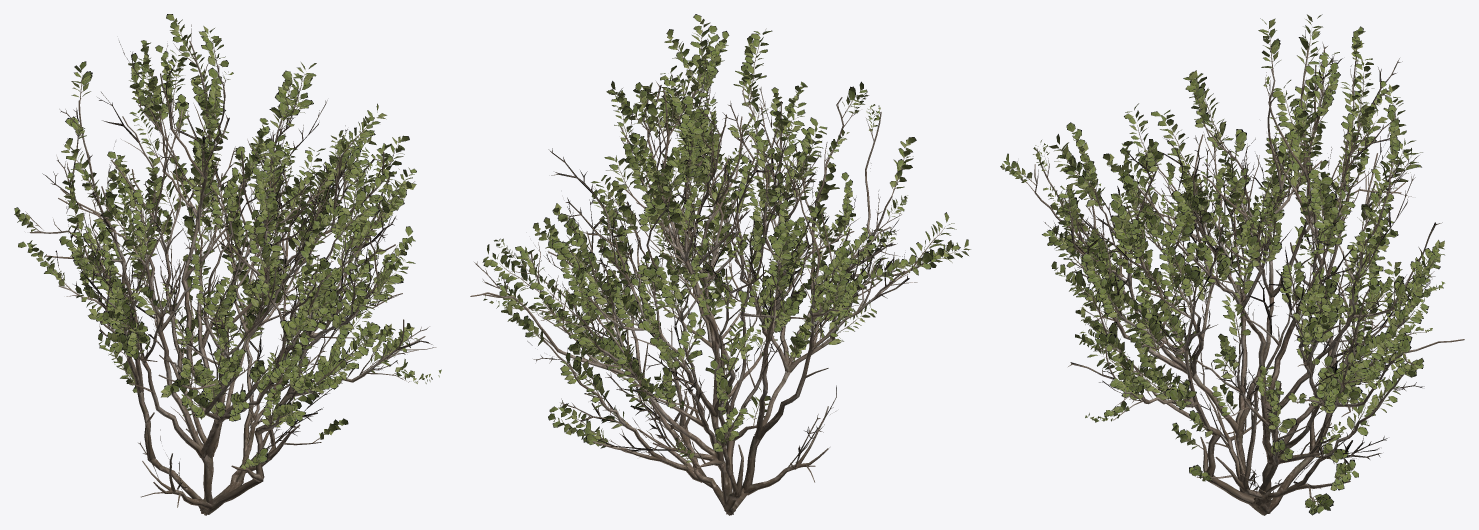
Rendered from olive_a.glb.
3 renders of one model, left to right at view 1: azimuth 30°, elevation 25°; view 2: azimuth 150°, elevation 25°; view 3: azimuth 270°, elevation 25°, orthographic. The views are drawn at different scales.
Visible parts, largest first — view 1: searsia_lucida_a_LOD0; view 2: searsia_lucida_a_LOD0; view 3: searsia_lucida_a_LOD0.
Part boxes in pixels (x1=…): searsia_lucida_a_LOD0: x1=14, y1=14, x2=441, y2=515; searsia_lucida_a_LOD0: x1=470, y1=14, x2=970, y2=515; searsia_lucida_a_LOD0: x1=1000, y1=14, x2=1464, y2=515.
Bounding box in the file's own units: 1.81 × 2.33 × 1.96.
2 materials, 2 textured.
